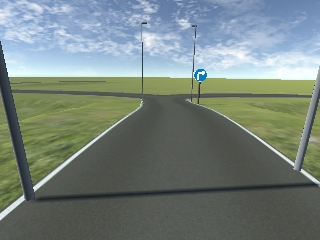right: (193, 68, 208, 82)
